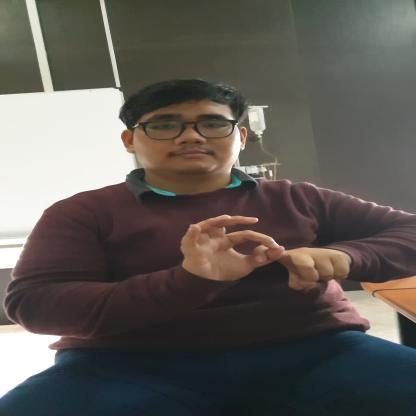Q: (168, 212, 357, 294)
